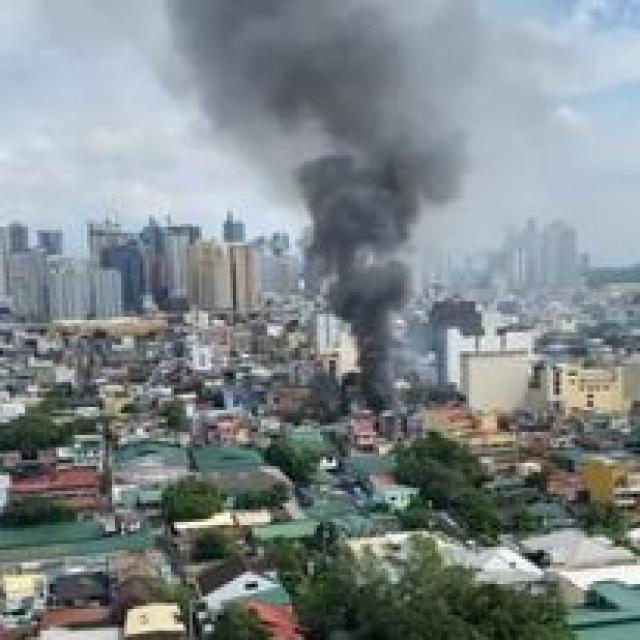Smoke: (261, 12, 459, 405)
